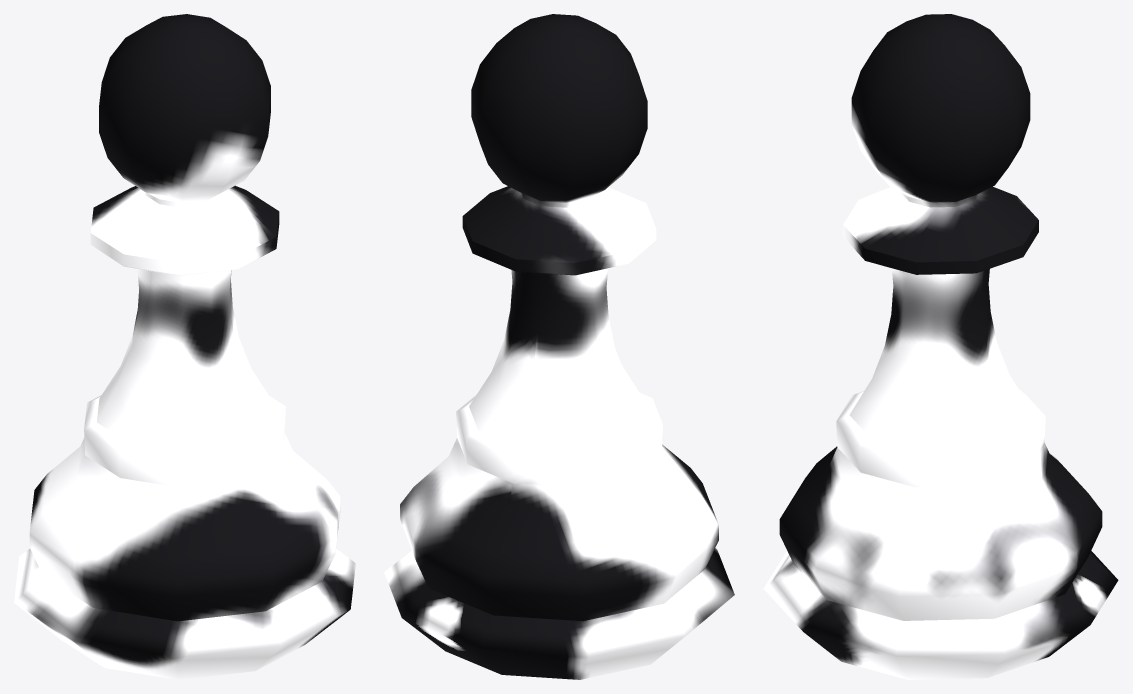
File: item-0-7.glb
The picture shows the model from 3 angles, left to right: view 1: azimuth 30°, elevation 25°; view 2: azimuth 150°, elevation 25°; view 3: azimuth 270°, elevation 25°; orthographic projection.
Visible parts, largest first — view 1: BlackPawn; view 2: BlackPawn; view 3: BlackPawn.
Part boxes in pixels (x1,y1,x2,y2): BlackPawn: (14, 14, 355, 679); BlackPawn: (384, 14, 734, 679); BlackPawn: (763, 14, 1118, 679).
Size of the model in its own units: 0.0889 by 0.1731 by 0.0918.
Materials: 1 (1 with a texture image).
